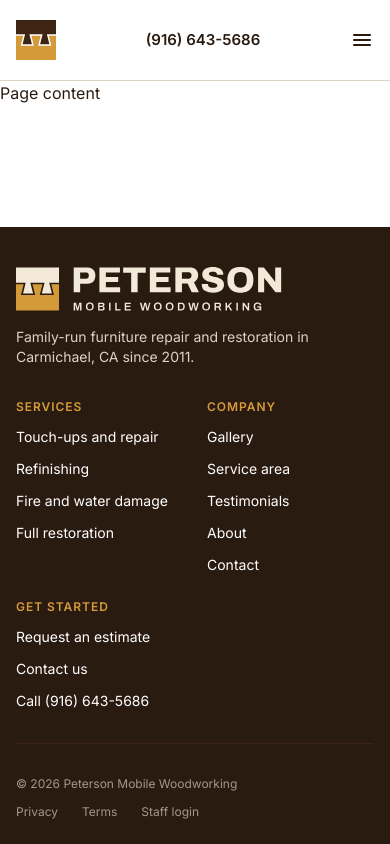
Test case: MobileMenu (SSPMW-143) › closes when a link is tapped and goes to that page
Click the button named "Open menu": (362, 40) [340,18,384,62]
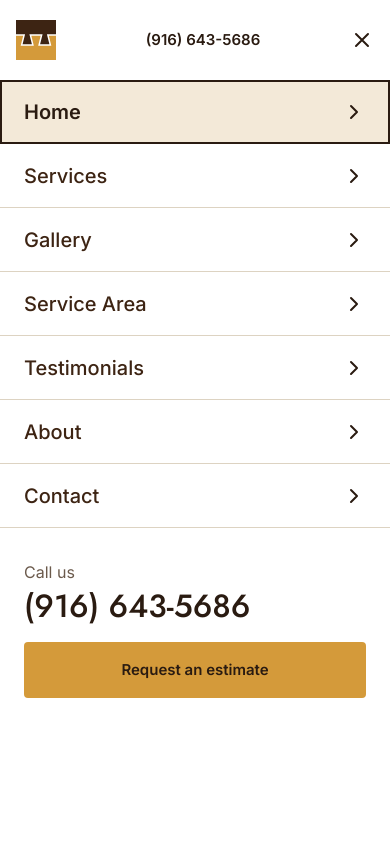
Click the link "Gallery": (58, 240) [0,208,389,272]
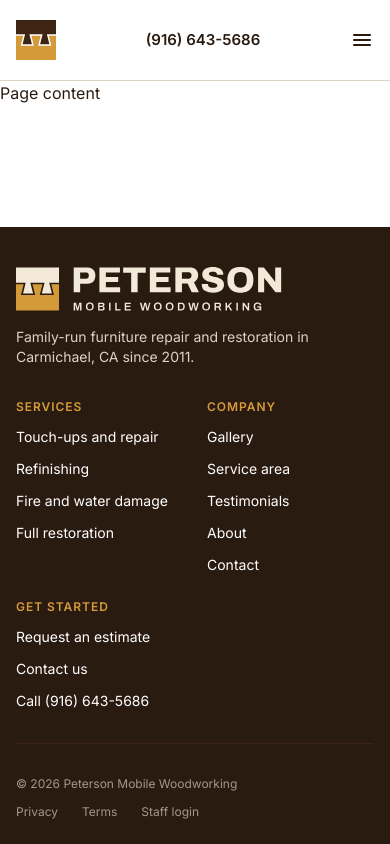
Now the button named "Open menu" is collapsed, box [340,18,384,62]
